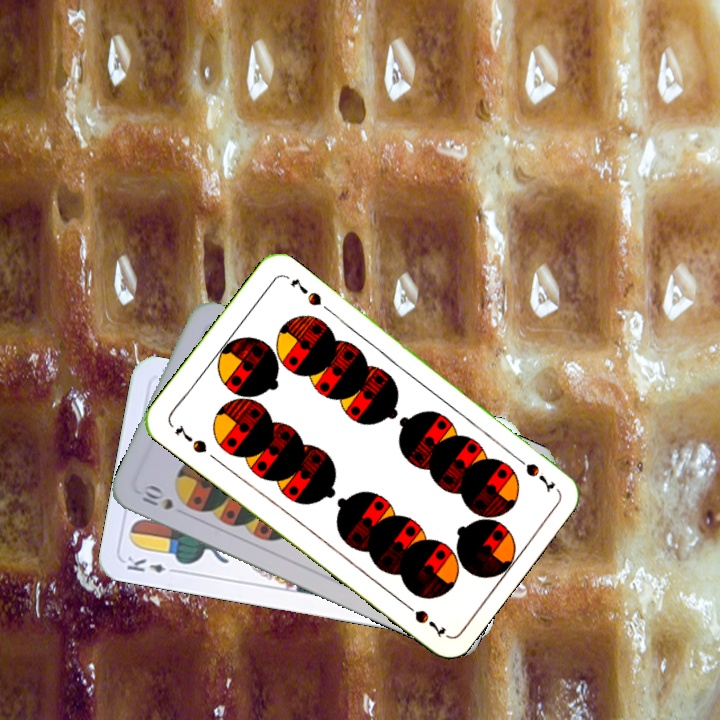EK: (123, 552, 181, 576)
S10: (135, 481, 176, 513)
S7: (509, 450, 558, 495), (171, 420, 210, 456)
